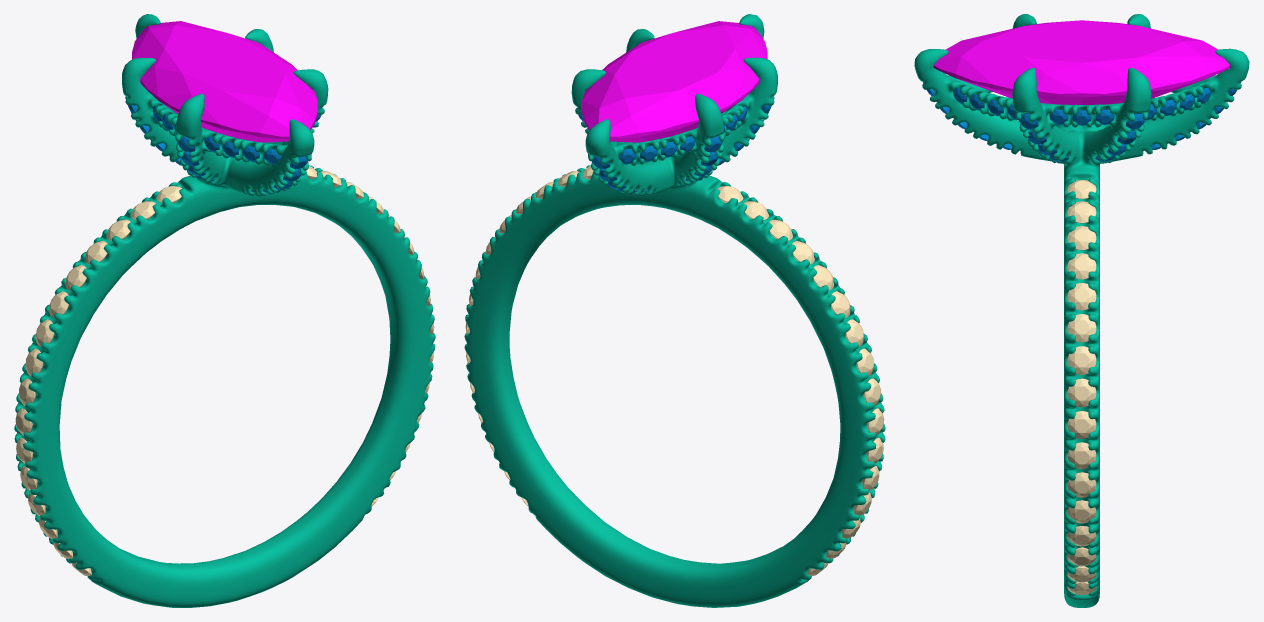
File: BE1D129_MQ_200ct_RENDER.glb
The picture shows the model from 3 angles, left to right: view 1: azimuth 30°, elevation 25°; view 2: azimuth 150°, elevation 25°; view 3: azimuth 270°, elevation 25°; orthographic projection.
Parts seen in each view (by area): view 1: Metal 01, CS_Diamond_Marquise; view 2: Metal 01, CS_Diamond_Marquise; view 3: Metal 01, CS_Diamond_Marquise, Diamond_Round_Gem_SH.006, Diamond_Round_Gem_SH.007, Diamond_Round_Gem_SH.005, Diamond_Round_Gem_SH.008, Diamond_Round_Gem_SH.004, Diamond_Round_Gem_SH.009, Diamond_Round_Gem_SH.003, Diamond_Round_Gem_SH.010, Diamond_Round_Gem_SH.002, Diamond_Round_Gem_SH.011 (+1 smaller).
Boxes of the visible parts, box(x1,y1,x2,y2) form: Metal 01: box(14, 14, 435, 607); CS_Diamond_Marquise: box(132, 21, 317, 142); Metal 01: box(464, 14, 885, 607); CS_Diamond_Marquise: box(582, 21, 767, 142); Metal 01: box(914, 14, 1249, 607); CS_Diamond_Marquise: box(933, 20, 1230, 104); Diamond_Round_Gem_SH.006: box(1067, 346, 1096, 374); Diamond_Round_Gem_SH.007: box(1067, 378, 1096, 407); Diamond_Round_Gem_SH.005: box(1067, 314, 1096, 342); Diamond_Round_Gem_SH.008: box(1067, 411, 1096, 438); Diamond_Round_Gem_SH.004: box(1067, 283, 1096, 310); Diamond_Round_Gem_SH.009: box(1067, 442, 1096, 469); Diamond_Round_Gem_SH.003: box(1067, 253, 1096, 279); Diamond_Round_Gem_SH.010: box(1067, 472, 1096, 497); Diamond_Round_Gem_SH.002: box(1067, 226, 1096, 250); Diamond_Round_Gem_SH.011: box(1067, 500, 1096, 523).
Bounding box in the file's own units: 20.08 × 25.07 × 14.
